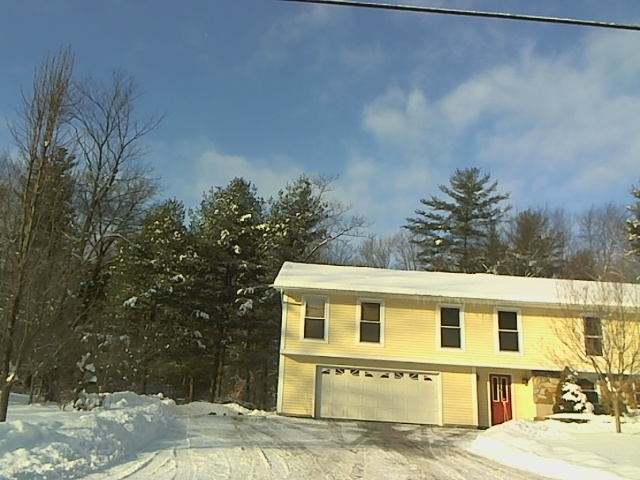Ploughed: (188, 415, 557, 480)
